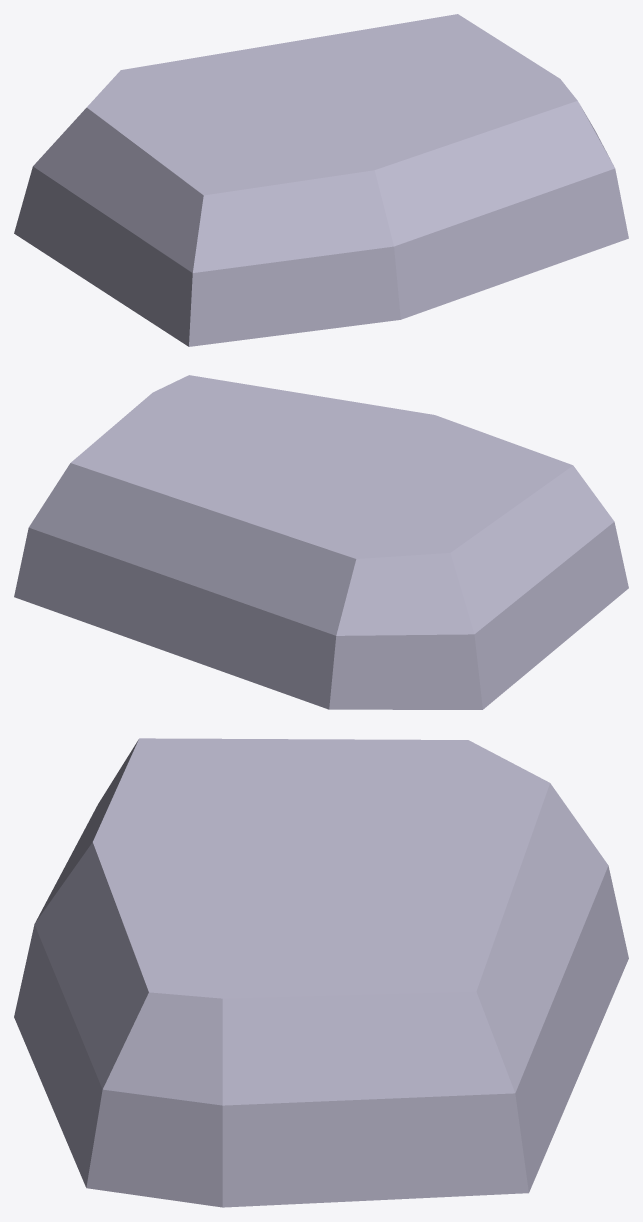
File: Barrior-stone06.fbx
The picture shows the model from 3 angles, top to bottom: view 1: azimuth 30°, elevation 25°; view 2: azimuth 150°, elevation 25°; view 3: azimuth 270°, elevation 25°; orthographic projection. The views are drawn at different scales.
Parts seen in each view (by area): view 1: Barrior-stone05; view 2: Barrior-stone05; view 3: Barrior-stone05.
Boxes of the visible parts, <box> form: Barrior-stone05: <box>14,14,628,346</box>; Barrior-stone05: <box>14,375,628,709</box>; Barrior-stone05: <box>14,738,628,1207</box>.
Size of the model in its own units: 2738 by 691 by 2182.
